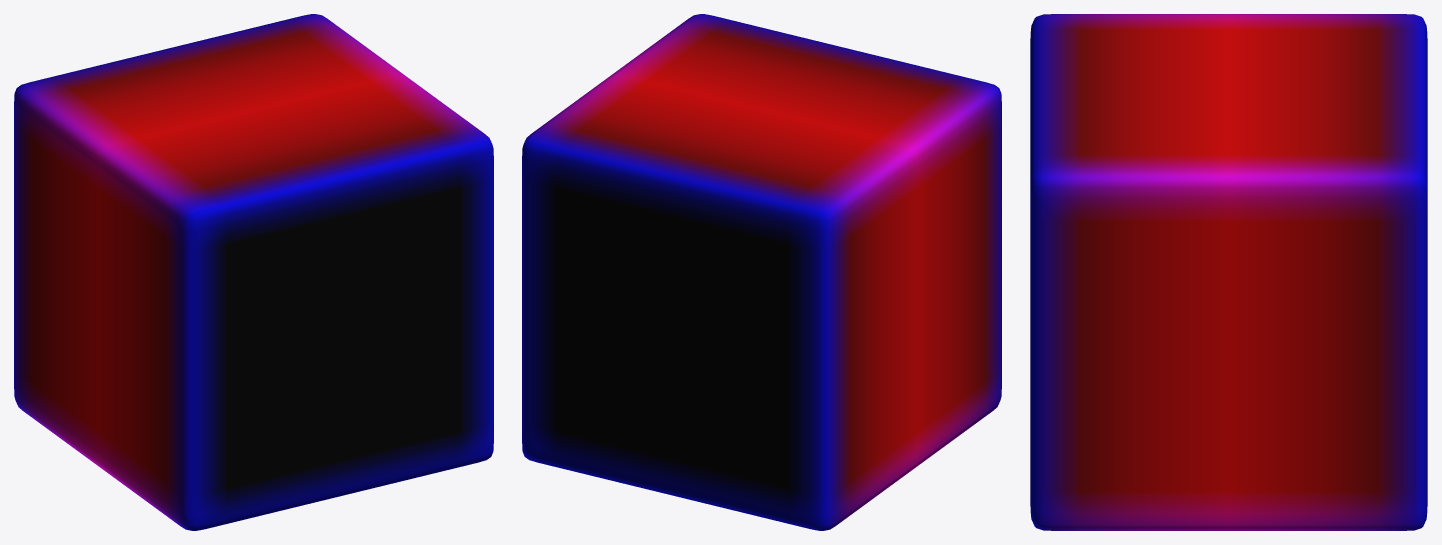
The picture shows the model from 3 angles, left to right: view 1: azimuth 30°, elevation 25°; view 2: azimuth 150°, elevation 25°; view 3: azimuth 270°, elevation 25°; orthographic projection. The views are drawn at different scales.
Parts seen in each view (by area): view 1: Cube; view 2: Cube; view 3: Cube.
Part boxes in pixels (x1,y1,x2,y2): Cube: [14, 14, 493, 530]; Cube: [522, 14, 1001, 530]; Cube: [1030, 14, 1427, 530].
Bounding box in the file's own units: 200 × 200 × 200.
